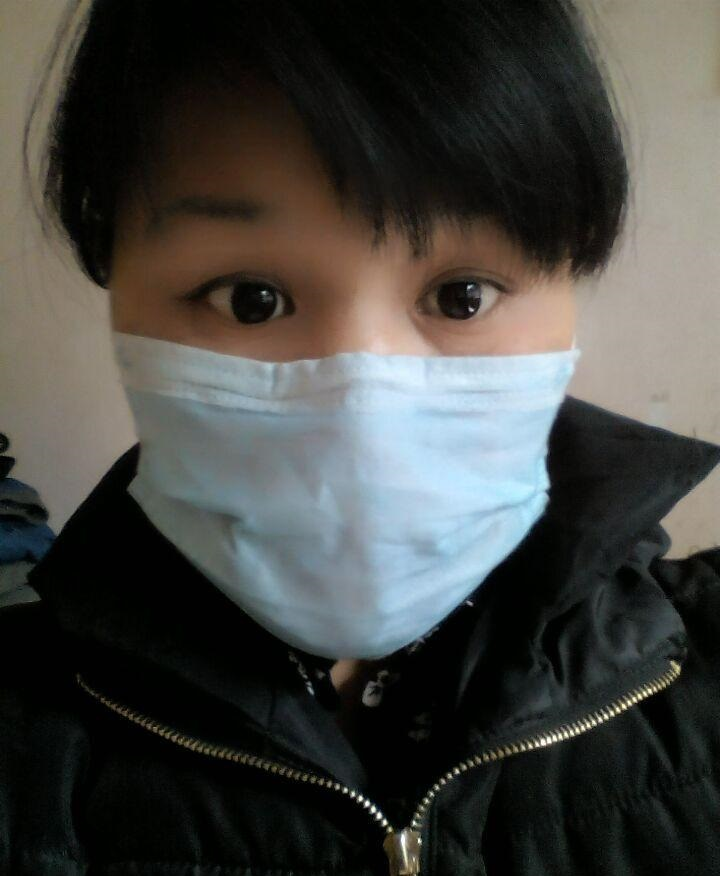face_mask: (116, 45, 576, 661)
